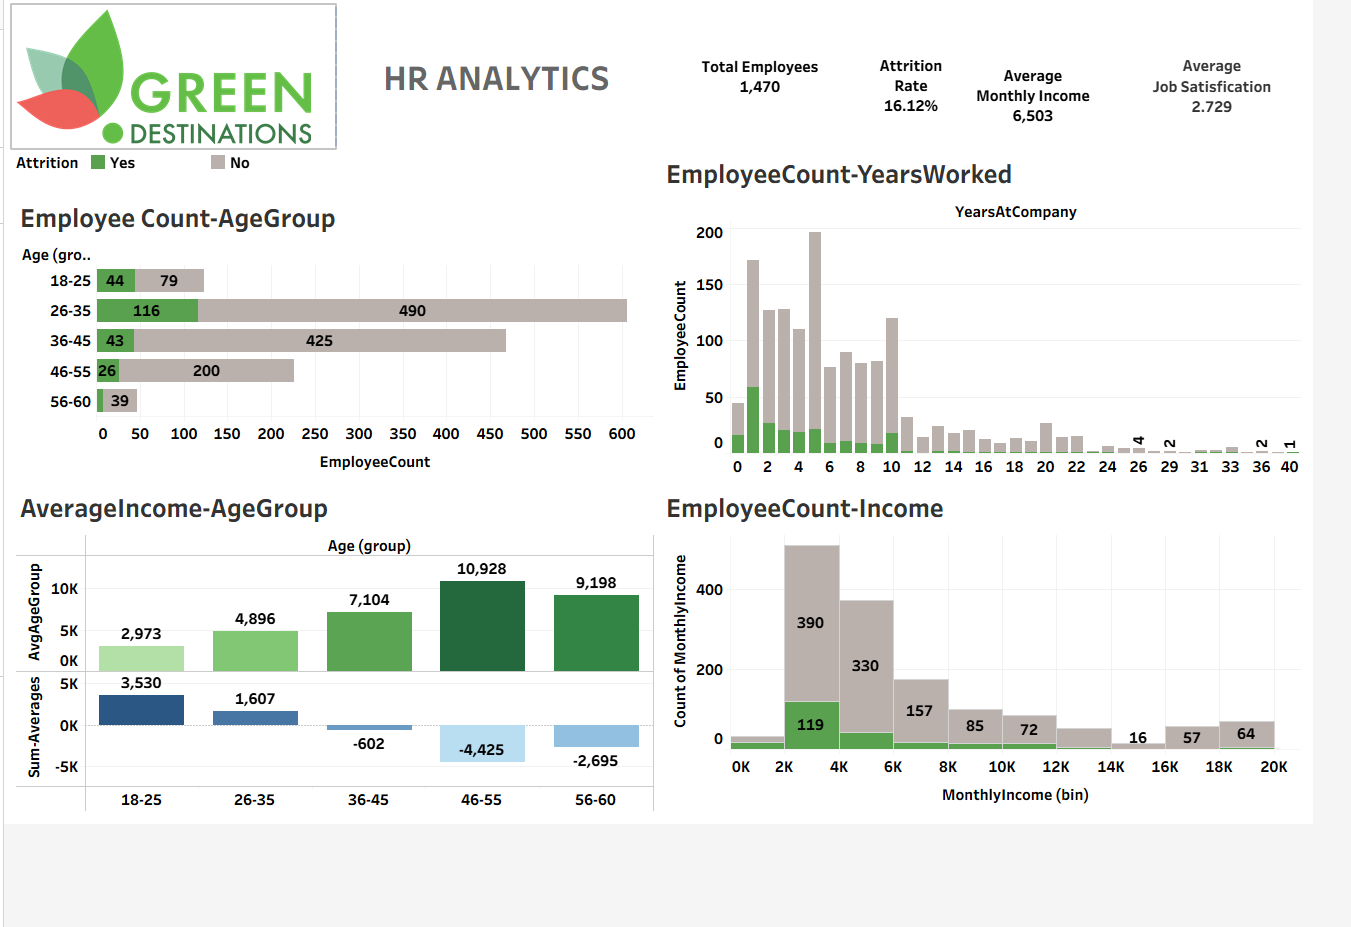

Layout of this report page (visuals, bound fields, positions):
{"tool":"tableau","page":{"name":"Dashboard 1","canvas":[1309,827],"ordinal":0},"visuals":[{"type":"image","param":"C:/Data/greendestination+logo.png","box":[8,8,323,143.2]},{"type":"text","box":[331,8,323,143.2]},{"type":"worksheet","title":"Total Employee Count","mark":"Automatic","box":[654,8,204,143.2]},{"type":"worksheet","title":"AttritionRate","mark":"Automatic","box":[858,8,97,143.2]},{"type":"worksheet","title":"Average Monthly Income","mark":"Automatic","box":[955,8,179,143.2]},{"type":"worksheet","title":"Average Job Satisfication","mark":"Automatic","box":[1134,8,167,143.2]},{"type":"legend","title":"Employee Count-AgeGroup","param":"[federated.0dv5yio1bwuxsm11560gj0ap08w5].[none:Attrition:nk]","box":[8,151.2,646.5,43.3]},{"type":"worksheet","title":"EmployeeCount-YearsWorked","mark":"Automatic","rows":["EmployeeCount"],"cols":["YearsAtCompany"],"box":[654.5,151.2,646.5,333.9]},{"type":"worksheet","title":"Employee Count-AgeGroup","mark":"Automatic","cols":["EmployeeCount"],"box":[8,194.5,646.5,290.6]},{"type":"worksheet","title":"AverageIncome-AgeGroup","mark":"Automatic","rows":["Calculation_2230385915363330","Calculation_2230385916530691"],"box":[8,485.1,646.5,333.9]},{"type":"worksheet","title":"EmployeeCount-Income","mark":"Automatic","rows":["MonthlyIncome"],"cols":["MonthlyIncome (bin)"],"box":[654.5,485.1,646.5,333.9]}]}

Visuals, with their boxes on the page's 1309x827 design canvas (x1, y1, x2, y2). These are canvas units, not pixel positions in the 1351x927 screenshot, which may show the page scaled, cropped or inside an application window:
image: 8 8 331 151
text: 331 8 654 151
"Total Employee Count" worksheet: 654 8 858 151
"AttritionRate" worksheet: 858 8 955 151
"Average Monthly Income" worksheet: 955 8 1134 151
"Average Job Satisfication" worksheet: 1134 8 1301 151
"Employee Count-AgeGroup" legend: 8 151 654 194
"EmployeeCount-YearsWorked" worksheet: 654 151 1301 485
"Employee Count-AgeGroup" worksheet: 8 194 654 485
"AverageIncome-AgeGroup" worksheet: 8 485 654 819
"EmployeeCount-Income" worksheet: 654 485 1301 819
